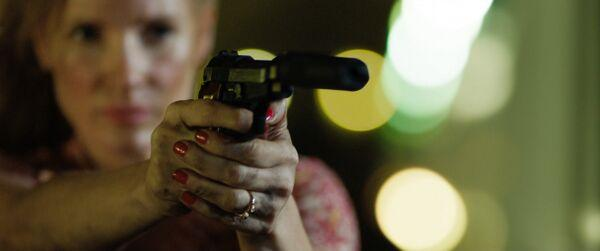Gun: (197, 45, 368, 137)
